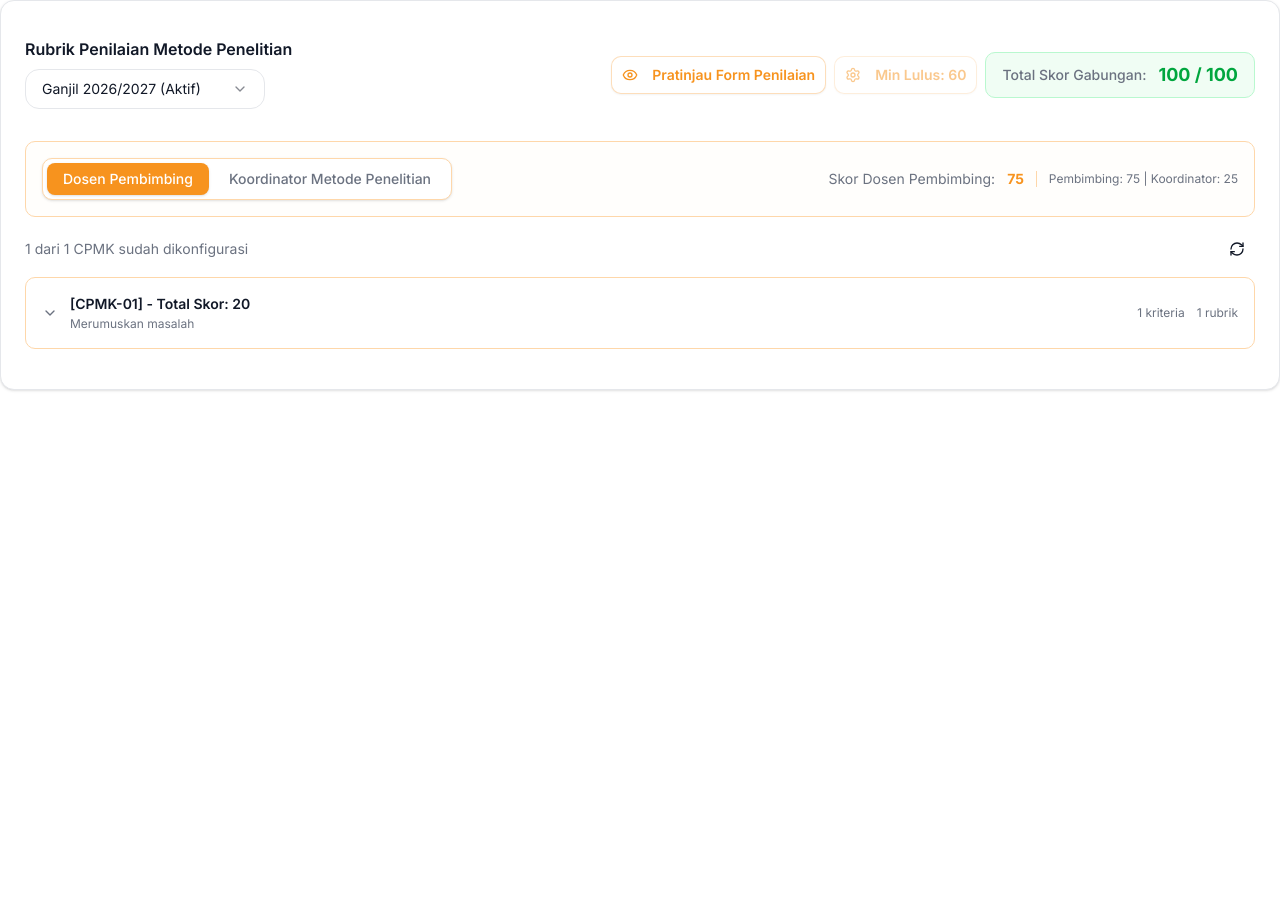
Rubrik panel › locks deleting, new criteria and rubrics, and the minimum score once Penilaian Proposal started and a result is final
Check: the button "Min Lulus: 60" is disabled, box [834, 56, 978, 94]
Click the text "[CPMK-01] - Total Skor: 20".
click(160, 304)  # box [70, 294, 250, 314]
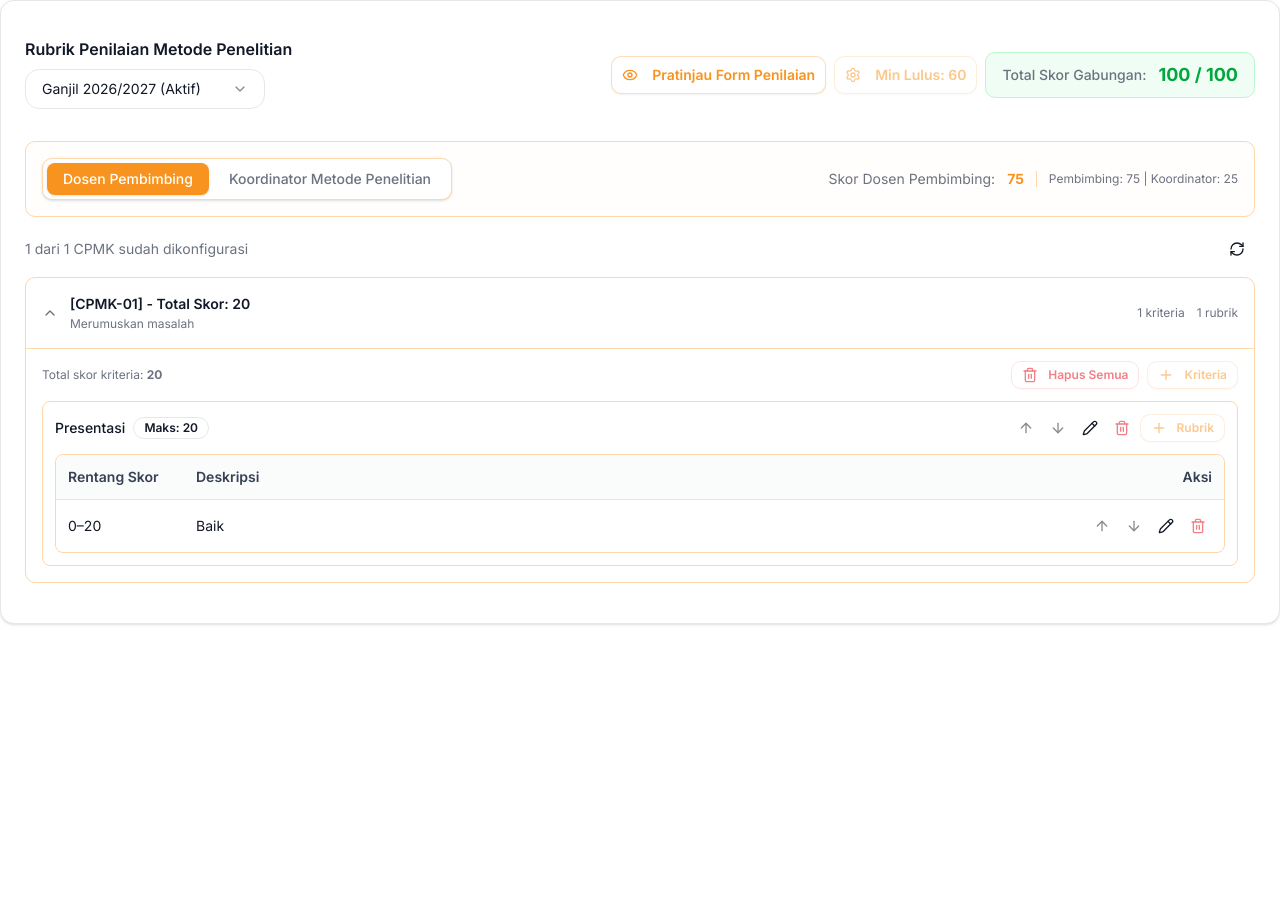
Check: the button named "Hapus kriteria" is disabled, box [1108, 414, 1136, 442]
Check: the button named "Hapus rubrik" is disabled, box [1184, 512, 1212, 540]
Check: the button "Hapus Semua" is disabled, box [1011, 361, 1140, 389]
Click the button named "Ubah kriteria".
click(1090, 428)  # box [1076, 414, 1104, 442]
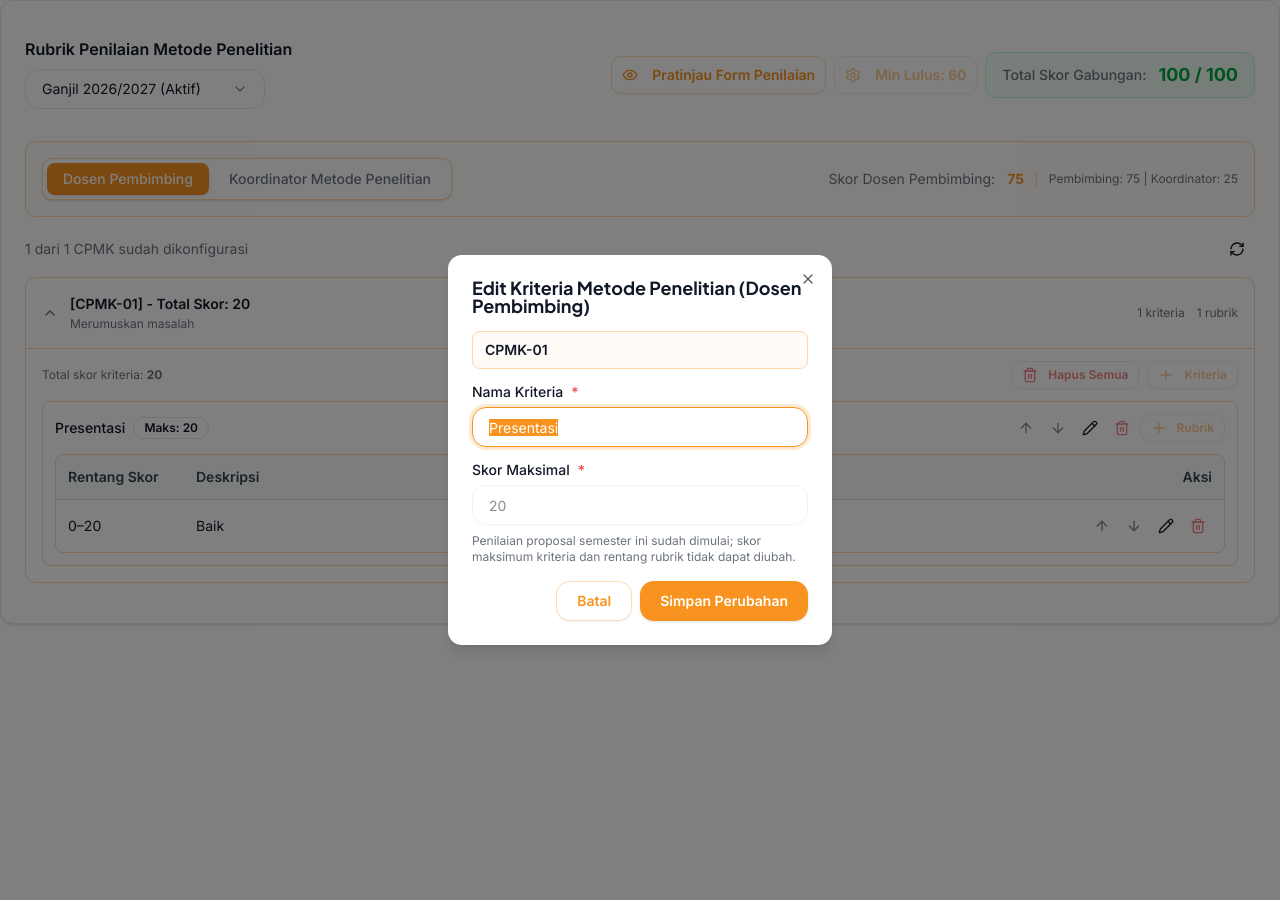
Check: the field labelled "Nama Kriteria *" is enabled, box [472, 407, 808, 447]
Check: the number field labelled "Skor Maksimal *" is disabled, box [472, 485, 808, 525]
Check: the text "Penilaian proposal semester ini sudah dimulai; skor maksimum kriteria dan rentang rubrik tidak dapat diubah." is shown, box [472, 533, 796, 564]
